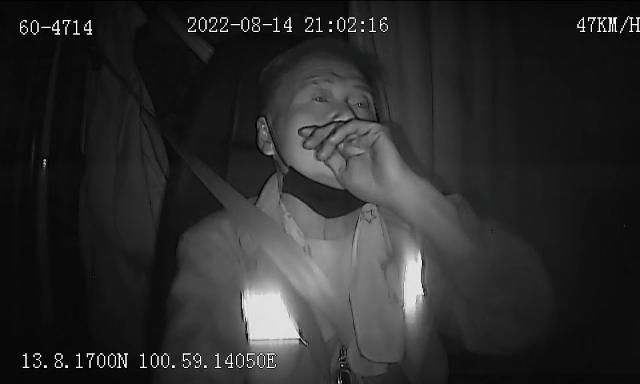Seatbelt: (174, 146, 368, 384)
